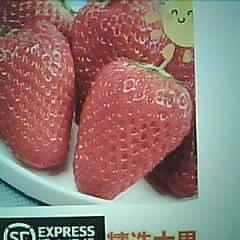straw-ripe: (74, 61, 191, 201), (0, 26, 74, 172)
